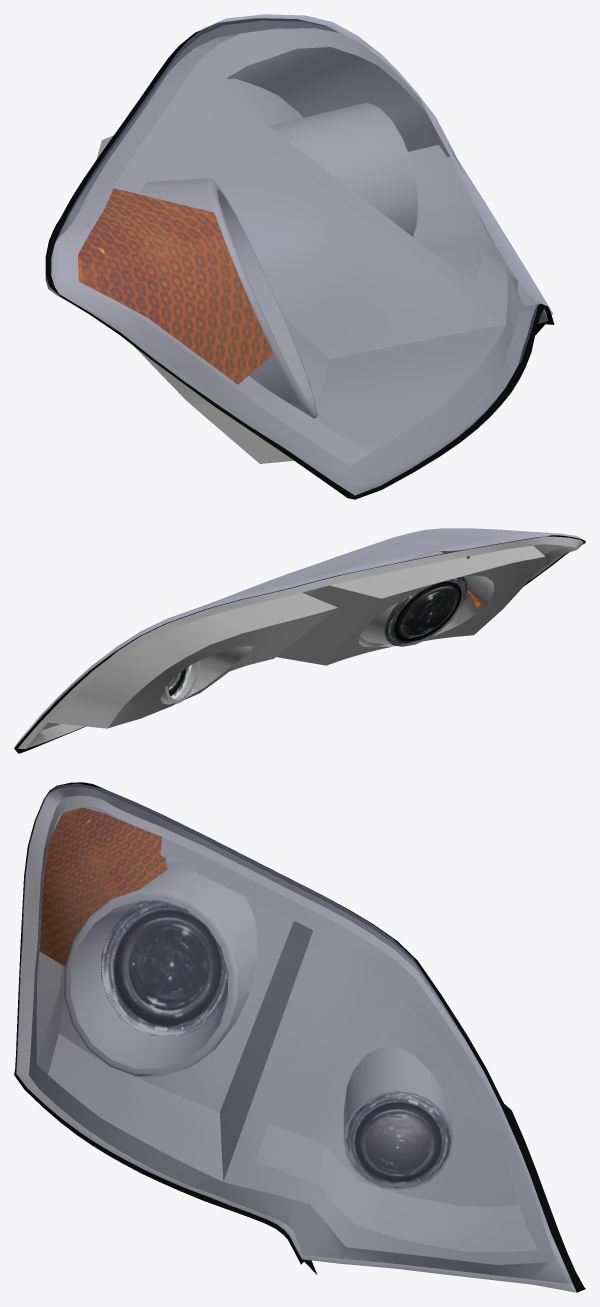
3 views of the same model, one above another, from view 1: azimuth 30°, elevation 25°; view 2: azimuth 150°, elevation 25°; view 3: azimuth 270°, elevation 25° (orthographic). The views are drawn at different scales.
Visible parts, largest first — view 1: H812_061B_R_H812_061B_R_6_DTaSI, H812_061B_R_H812_061B_R_4_DaS, H812_061B_R_1_N_H812_061B_R, H812_061B_R_H812_061B_R_7_D; view 2: H812_061B_R_H812_061B_R_4_DaS, H812_061B_R_H812_061B_R_6_DTaSI, H812_061B_R_H812_061B_R_2_N, H812_061B_R_H812_061B_R_7_D, H812_061B_R_H812_061B_R_3_N; view 3: H812_061B_R_H812_061B_R_6_DTaSI, H812_061B_R_H812_061B_R_4_DaS, H812_061B_R_H812_061B_R_2_N, H812_061B_R_1_N_H812_061B_R, H812_061B_R_H812_061B_R_3_N, H812_061B_R_H812_061B_R_7_D.
Part boxes in pixels (box(x1,y1,x2,y2)): H812_061B_R_H812_061B_R_6_DTaSI: box(51, 14, 552, 495); H812_061B_R_H812_061B_R_4_DaS: box(45, 20, 547, 495); H812_061B_R_1_N_H812_061B_R: box(78, 188, 273, 384); H812_061B_R_H812_061B_R_7_D: box(45, 18, 554, 499); H812_061B_R_H812_061B_R_4_DaS: box(18, 536, 583, 748); H812_061B_R_H812_061B_R_6_DTaSI: box(15, 528, 580, 746); H812_061B_R_H812_061B_R_2_N: box(384, 577, 468, 646); H812_061B_R_H812_061B_R_7_D: box(14, 535, 585, 753); H812_061B_R_H812_061B_R_3_N: box(162, 664, 191, 703); H812_061B_R_H812_061B_R_6_DTaSI: box(16, 783, 576, 1292); H812_061B_R_H812_061B_R_4_DaS: box(16, 786, 576, 1292); H812_061B_R_H812_061B_R_2_N: box(101, 900, 228, 1037); H812_061B_R_1_N_H812_061B_R: box(39, 807, 167, 966); H812_061B_R_H812_061B_R_3_N: box(345, 1093, 450, 1188); H812_061B_R_H812_061B_R_7_D: box(14, 782, 585, 1292).
Size of the model in its own units: 57.66 by 27.5 by 52.09.
